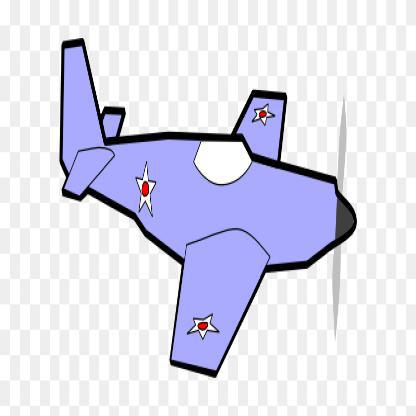CIV_Plane: (55, 31, 358, 393)
